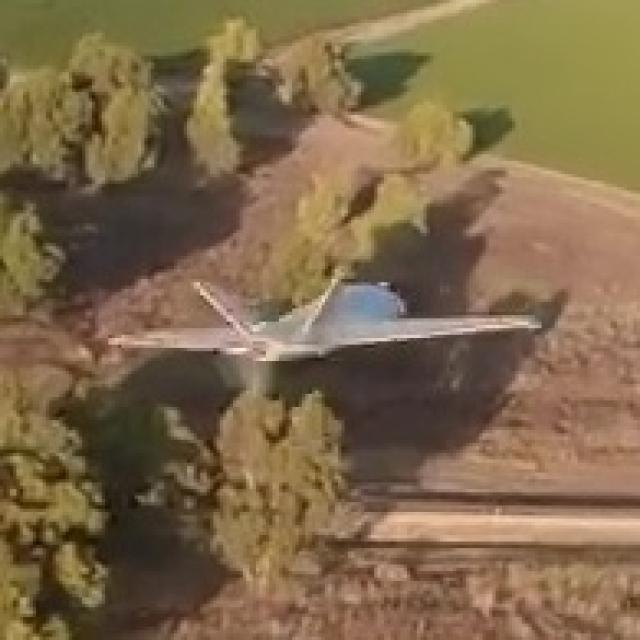iha: (101, 303, 542, 340)
